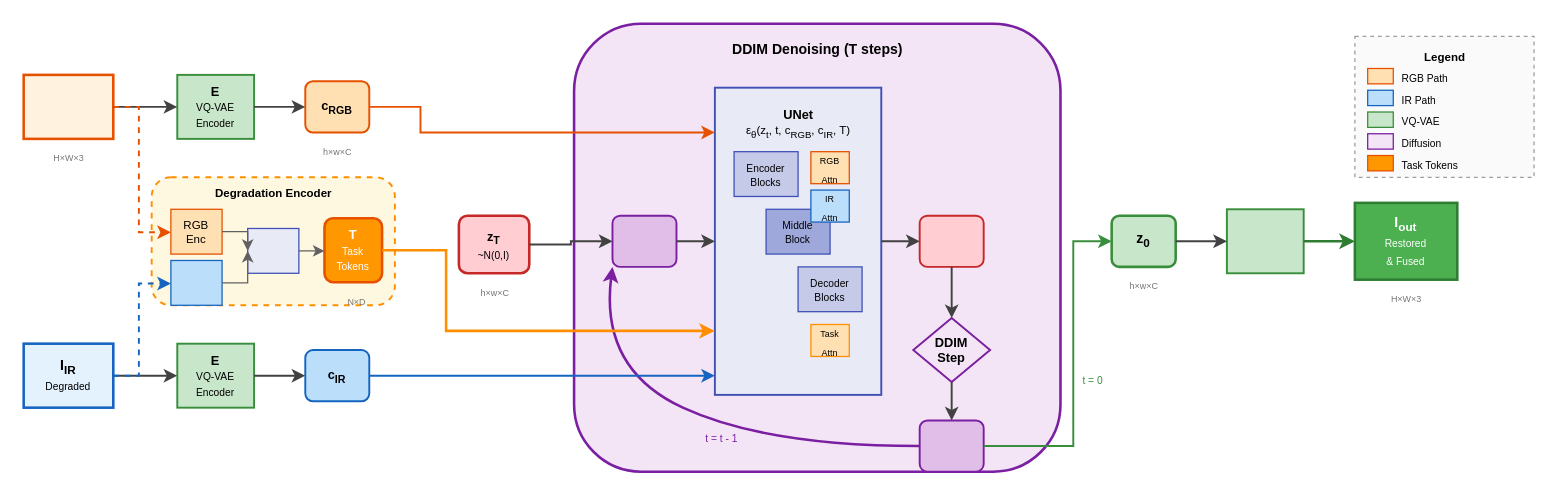
Some shapes in this 1556 by 494 pixel diagram are drawn without their labels. The shapes that lost their labels are listed below. From the top down, each one's centre as x and y in pixels, then its label:
At pixel 68 106: "I RGB Degraded".
At pixel 272 250: "Cross Attn".
At pixel 644 240: "z t".
At pixel 951 240: "ε pred".
At pixel 1264 241: "D VQ-VAE Decoder".
At pixel 196 282: "IR Enc".
At pixel 951 445: "z t-1".
